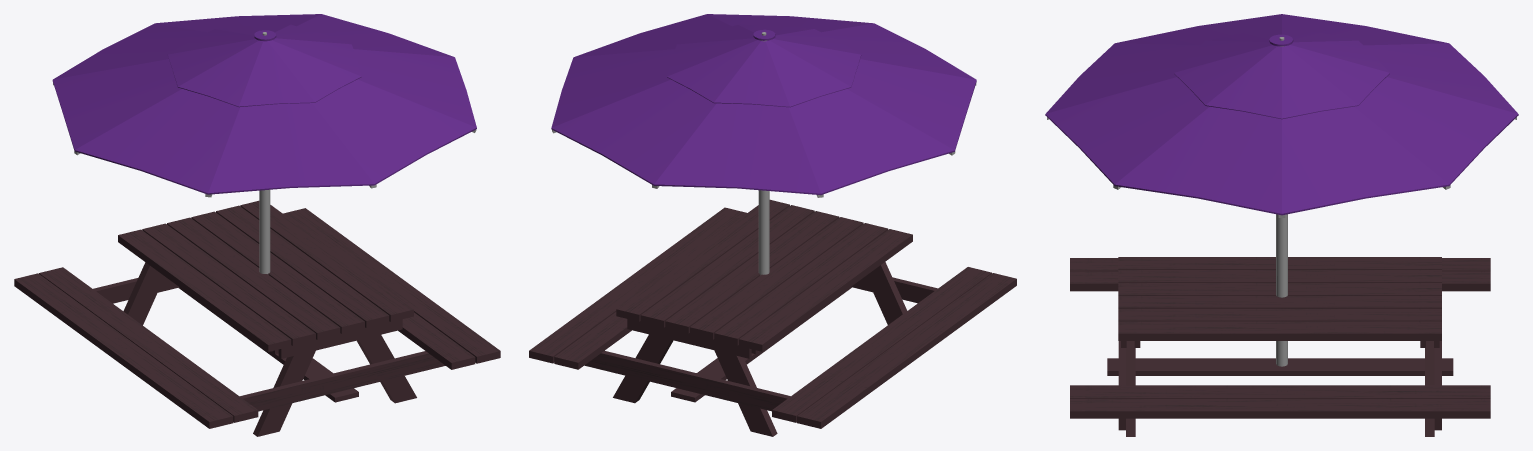
File: fbx_CVS_table.fbx
3 renders of one model, left to right at view 1: azimuth 30°, elevation 25°; view 2: azimuth 150°, elevation 25°; view 3: azimuth 270°, elevation 25°, orthographic. The views are drawn at different scales.
Parts seen in each view (by area): view 1: fbx_CVS_table; view 2: fbx_CVS_table; view 3: fbx_CVS_table.
Boxes of the visible parts, x1,y1,x2,y2 form: fbx_CVS_table: [14, 14, 500, 436]; fbx_CVS_table: [529, 14, 1016, 436]; fbx_CVS_table: [1045, 14, 1518, 436].
Size of the model in its own units: 2.87 by 2.39 by 2.87.
Materials: 1 (1 with a texture image).
